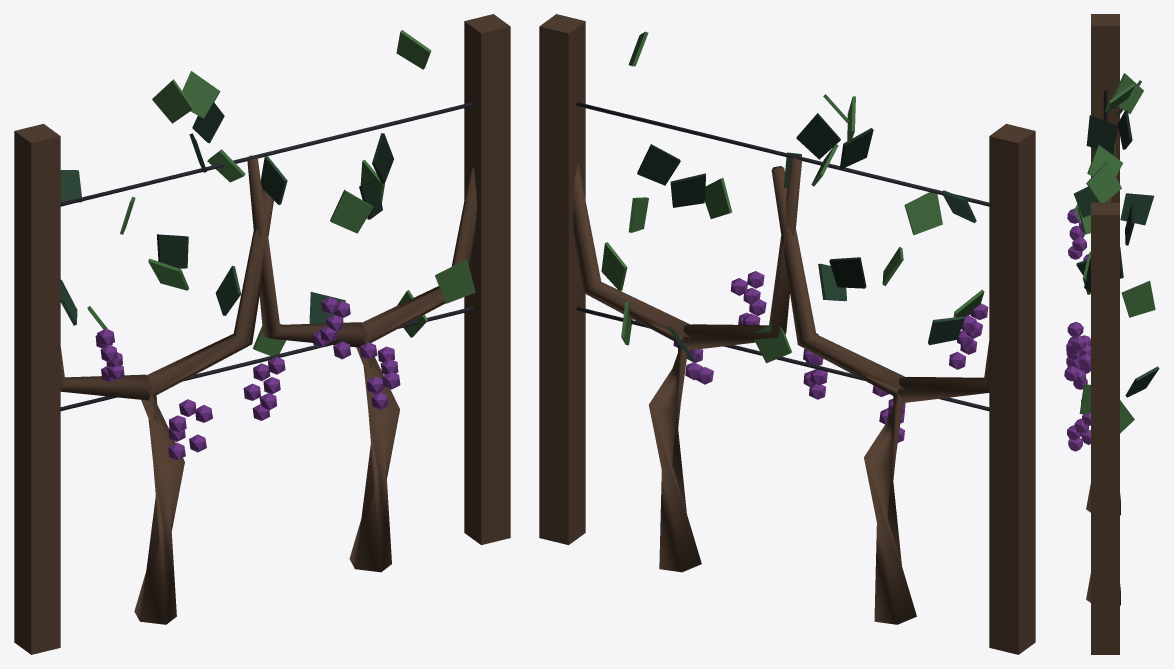
Rendered from vines.glb.
3 views of the same model, side by side, from view 1: azimuth 30°, elevation 25°; view 2: azimuth 150°, elevation 25°; view 3: azimuth 270°, elevation 25° (orthographic). The views are drawn at different scales.
Parts seen in each view (by area): view 1: vines; view 2: vines; view 3: vines.
Boxes of the visible parts, bbox=[...] form: vines: bbox=[14, 14, 510, 654]; vines: bbox=[539, 14, 1035, 654]; vines: bbox=[1064, 14, 1159, 654].
Bounding box in the file's own units: 0.98 × 1.03 × 0.1961.
